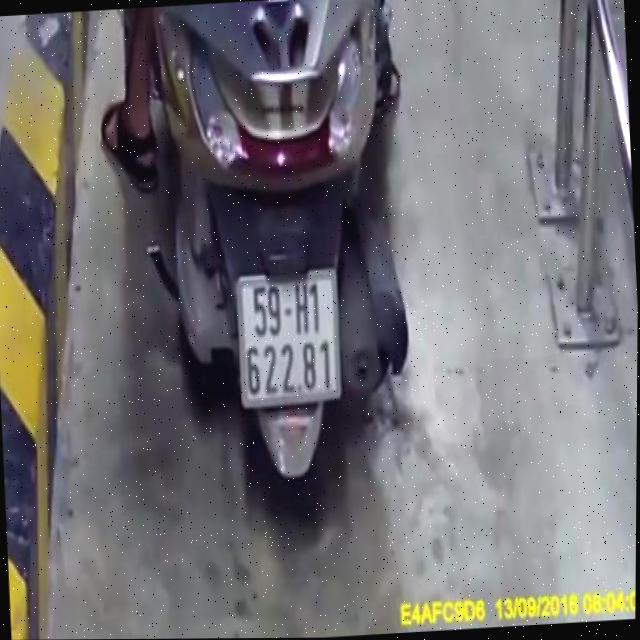motorcycle: (122, 0, 442, 521)
plate: (230, 267, 354, 410)
